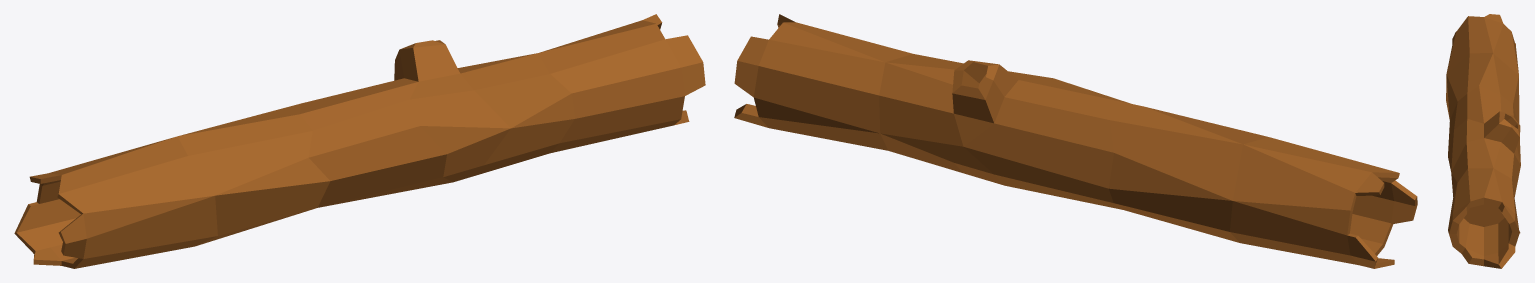
The model's file is Log.fbx.
3 views of the same model, side by side, from view 1: azimuth 30°, elevation 25°; view 2: azimuth 150°, elevation 25°; view 3: azimuth 270°, elevation 25° (orthographic). The views are drawn at different scales.
Parts seen in each view (by area): view 1: Log; view 2: Log; view 3: Log.
Part boxes in pixels (x1=…): Log: x1=14, y1=14, x2=705, y2=268; Log: x1=734, y1=14, x2=1417, y2=268; Log: x1=1446, y1=14, x2=1520, y2=268.
Bounding box in the file's own units: 2660 × 490 × 414.
